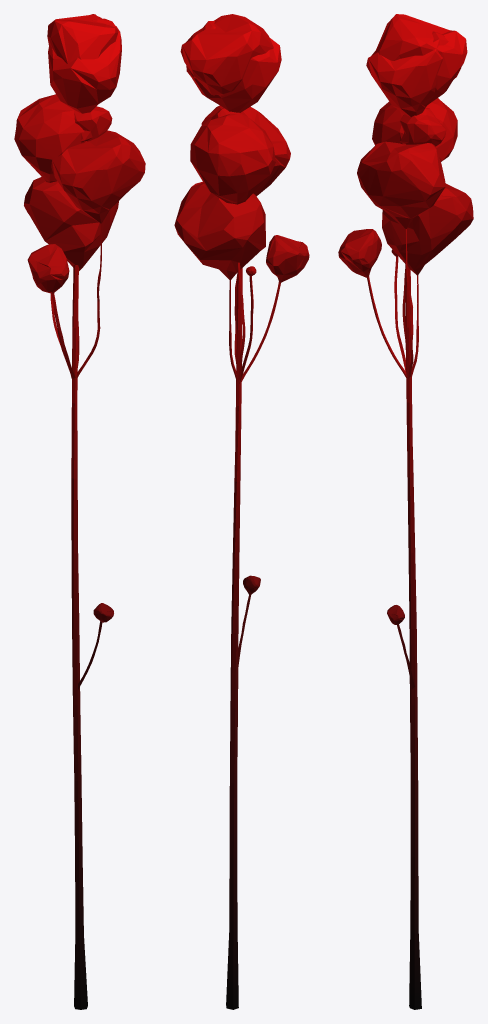
Rendered from TreeBirchTall03.fbx.
3 renders of one model, left to right at view 1: azimuth 30°, elevation 25°; view 2: azimuth 150°, elevation 25°; view 3: azimuth 330°, elevation 25°, orthographic.
Parts seen in each view (by area): view 1: TreeBirchTall03_LOD0; view 2: TreeBirchTall03_LOD0; view 3: TreeBirchTall03_LOD0.
Part boxes in pixels (x1,y1,x2,y2): TreeBirchTall03_LOD0: (14,14,145,1009); TreeBirchTall03_LOD0: (174,14,309,1009); TreeBirchTall03_LOD0: (338,14,473,1009).
Size of what is drawn, in the model's own units: 299 by 2685 by 320.
